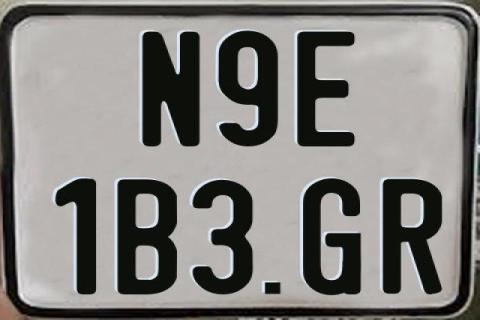0: (216, 29, 280, 150), (193, 180, 255, 294), (52, 176, 98, 296)
B: (115, 178, 176, 298)
E: (294, 31, 357, 149)
G: (303, 179, 362, 297)
N: (140, 29, 198, 149)
R: (383, 179, 444, 295)
